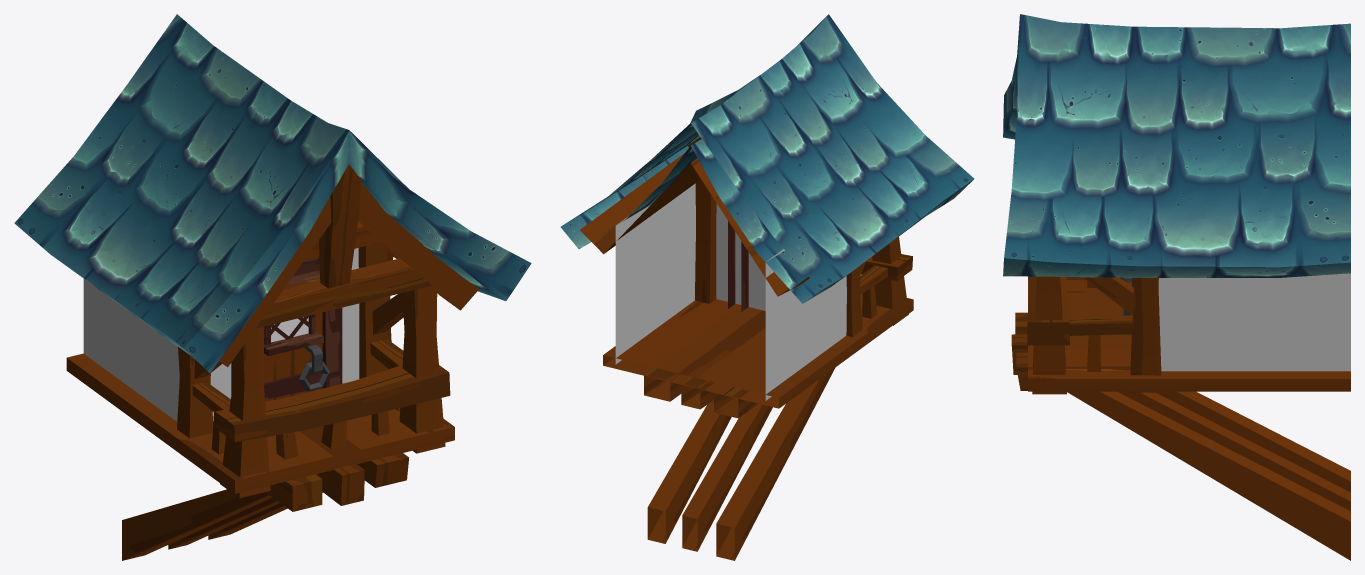
The model's file is SM_BLD_balcony_v02_01.fbx.
3 views of the same model, side by side, from view 1: azimuth 30°, elevation 25°; view 2: azimuth 150°, elevation 25°; view 3: azimuth 270°, elevation 25° (orthographic). The views are drawn at different scales.
Visible parts, largest first — view 1: SM_BLD_balcony_v02_01; view 2: SM_BLD_balcony_v02_01; view 3: SM_BLD_balcony_v02_01.
Part boxes in pixels (bbox=[...]): SM_BLD_balcony_v02_01: bbox=[14, 14, 531, 560]; SM_BLD_balcony_v02_01: bbox=[560, 14, 974, 560]; SM_BLD_balcony_v02_01: bbox=[1003, 14, 1350, 560].
Size of the model in its own units: 535 by 798 by 482.
